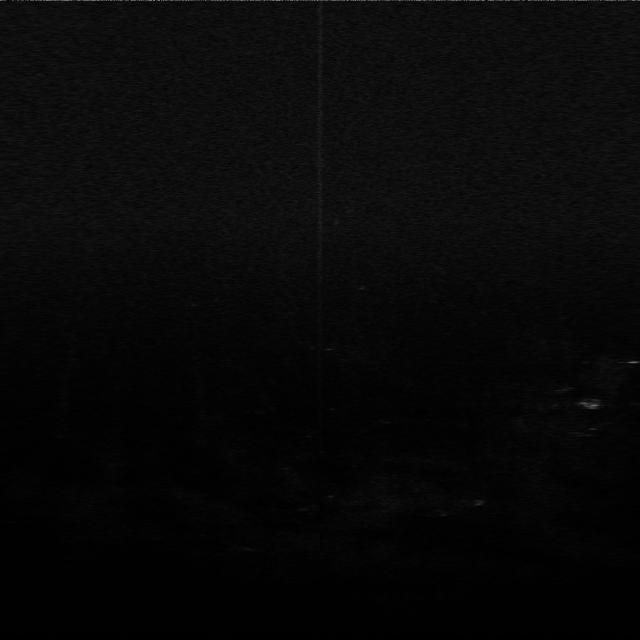rov: (578, 398, 602, 414)
